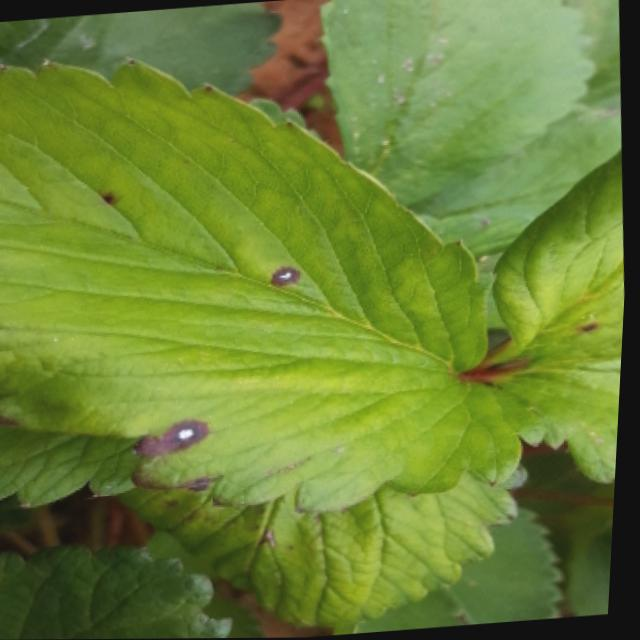Leaf Spot: (0, 54, 527, 516), (113, 466, 531, 629), (468, 148, 627, 485), (10, 2, 282, 96)
